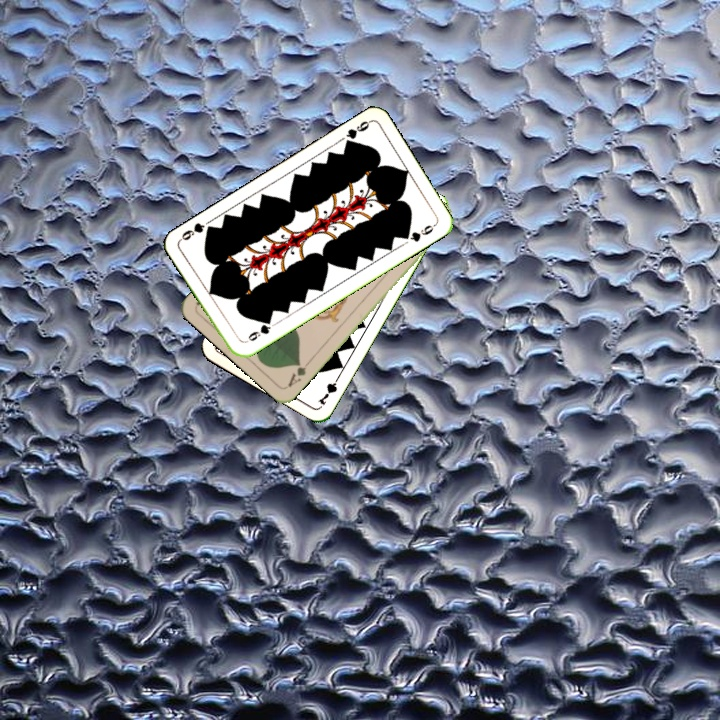G7: (314, 371, 343, 408)
G9: (341, 117, 373, 149), (241, 316, 274, 346)
GA: (284, 355, 314, 390)
